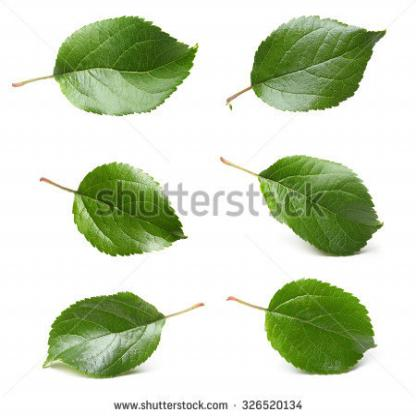apple leaf: (48, 18, 218, 131), (239, 11, 395, 127), (242, 154, 387, 270), (250, 278, 391, 382), (41, 290, 191, 387)
